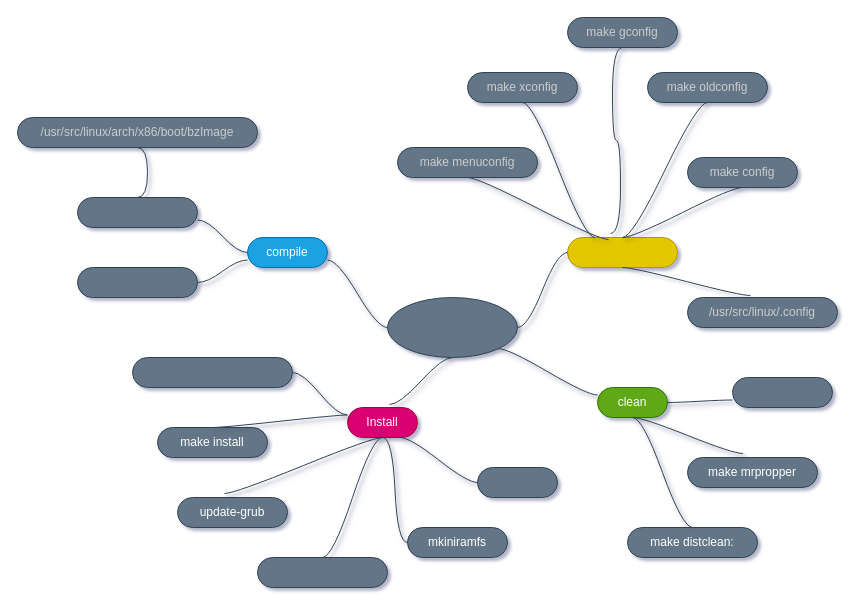
The diagram is 861 pixels wide and 611 high, and some of its shapes have lost their labels. Each missing label, with the centre of its shape:
configuration: point (622, 252)
make bzIMage: point (137, 212)
make clean: point (782, 392)
make modules: point (137, 282)
make modules_install: point (212, 372)
mkinitrd: point (517, 482)
Topic 201.2: point (452, 327)
update-initramfs: point (322, 572)
